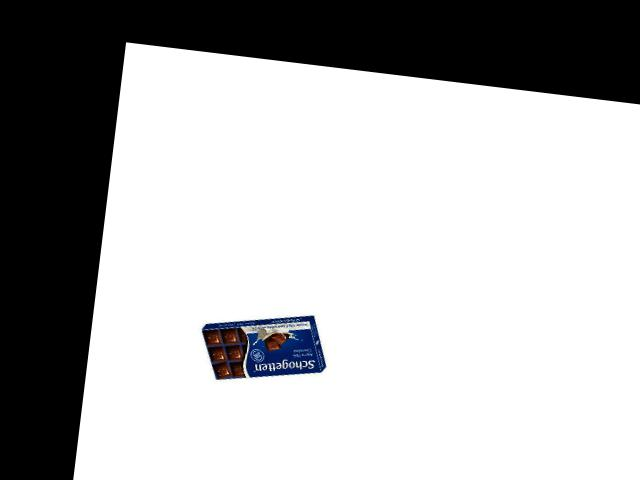chocolate: (194, 312, 333, 392)
